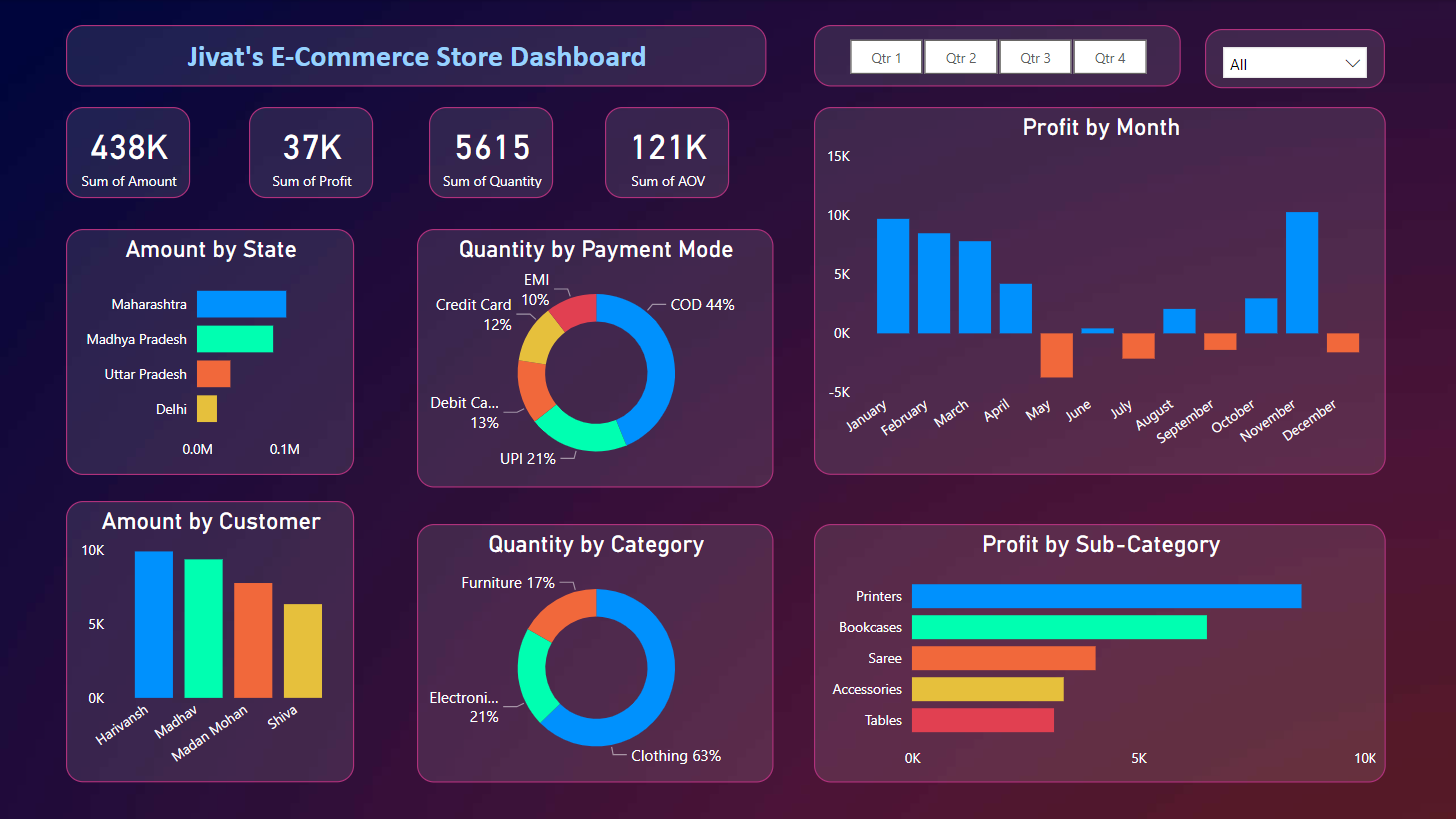

The dashboard page shown, as its layout file describes it:
{"tool":"powerbi","page":{"name":"Page 1","canvas":[1280,720],"ordinal":0},"visuals":[{"type":"textbox","box":[58.3,22.4,615.2,54.4],"z":0},{"type":"columnChart","title":"Profit by Month","fields":{"Y":["Details.Profit"],"Category":["Orders.Order Date.Variation.Date Hierarchy.Month"]},"box":[714.4,94.3,502.5,322.7],"z":1000},{"type":"barChart","title":"Profit by Sub-Category","fields":{"Y":["Details.Profit"],"Category":["Details.Sub-Category"]},"box":[714.4,459.7,502.5,227.4],"z":2000},{"type":"donutChart","title":"Quantity by Category","fields":{"Y":["Details.Quantity"],"Category":["Details.Category"]},"box":[366.4,459.7,313,227.4],"z":3000},{"type":"donutChart","title":"Quantity by Payment Mode","fields":{"Y":["Details.Quantity"],"Category":["Details.PaymentMode"]},"box":[366.4,201.2,313,227.4],"z":4000},{"type":"card","fields":{"Values":["Details.Amount"]},"box":[58.3,94.3,108.9,79.7],"z":5000},{"type":"card","fields":{"Values":["Details.Profit"]},"box":[218.7,94.3,108.9,79.7],"z":6000},{"type":"card","fields":{"Values":["Details.Quantity"]},"box":[377.1,94.3,108.9,79.7],"z":7000},{"type":"card","fields":{"Values":["Details.AOV"]},"box":[531.6,94.3,108.9,79.7],"z":8000},{"type":"barChart","title":"Amount by State","fields":{"Y":["Details.Amount"],"Category":["Orders.State"]},"box":[58.3,201.2,252.7,215.8],"z":9000},{"type":"columnChart","title":"Amount by Customer","fields":{"Category":["Orders.CustomerName"],"Y":["Details.Amount"]},"box":[58.3,440.3,252.7,246.9],"z":10000},{"type":"slicer","fields":{"Values":["Orders.Order Date.Variation.Date Hierarchy.Quarter"]},"box":[714.4,22.4,321.7,54.4],"z":11000},{"type":"slicer","fields":{"Values":["Orders.State"]},"box":[1058.4,25.3,158.4,51.5],"z":12000}]}

Visuals, with their boxes in screenshot pixels (x1, y1, x2, y2), scaled from the page's 1280x720 canvas onto the 1456x819 screenshot:
textbox: rect(66, 25, 766, 87)
"Profit by Month" columnChart: rect(813, 107, 1384, 474)
"Profit by Sub-Category" barChart: rect(813, 523, 1384, 782)
"Quantity by Category" donutChart: rect(417, 523, 773, 782)
"Quantity by Payment Mode" donutChart: rect(417, 229, 773, 488)
card - Details.Amount: rect(66, 107, 190, 198)
card - Details.Profit: rect(249, 107, 373, 198)
card - Details.Quantity: rect(429, 107, 553, 198)
card - Details.AOV: rect(605, 107, 729, 198)
"Amount by State" barChart: rect(66, 229, 354, 474)
"Amount by Customer" columnChart: rect(66, 501, 354, 782)
slicer - Orders.Order Date.Variation.Date Hierarchy.Quarter: rect(813, 25, 1179, 87)
slicer - Orders.State: rect(1204, 29, 1384, 87)
